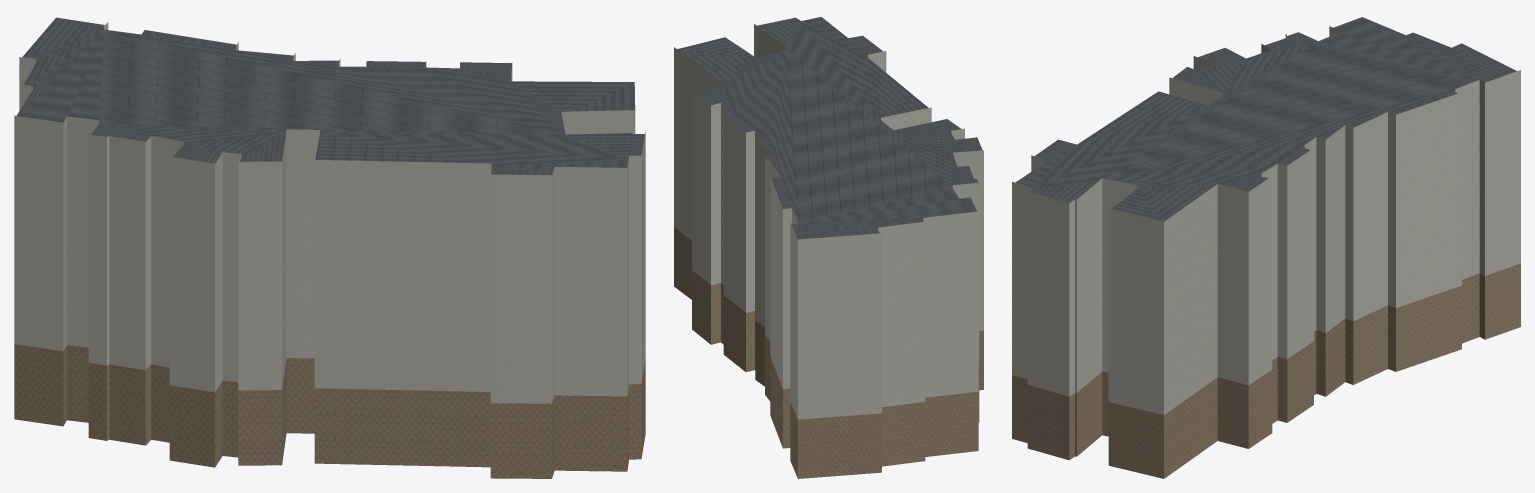
File: core_0086.gltf
3 renders of one model, left to right at view 1: azimuth 30°, elevation 25°; view 2: azimuth 150°, elevation 25°; view 3: azimuth 270°, elevation 25°, orthographic. The views are drawn at different scales.
Visible parts, largest first — view 1: core_0086; view 2: core_0086; view 3: core_0086.
Boxes of the visible parts, left/top/right/bottom form: core_0086: left=14, top=17, right=645, bottom=478; core_0086: left=674, top=17, right=983, bottom=478; core_0086: left=1012, top=17, right=1520, bottom=478.
Size of the model in its own units: 35.67 by 20.58 by 36.9.
3 materials, 3 textured.
